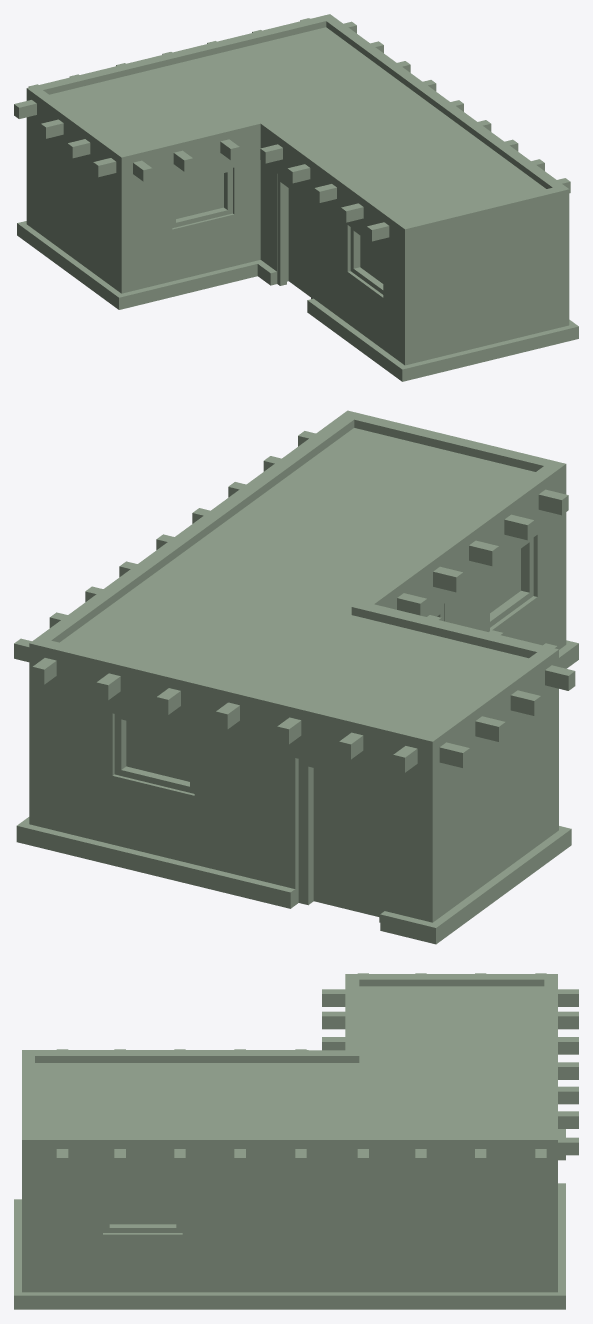
The model's file is mud_hut_02.fbx.
3 views of the same model, one above another, from view 1: azimuth 30°, elevation 25°; view 2: azimuth 150°, elevation 25°; view 3: azimuth 270°, elevation 25° (orthographic). The views are drawn at different scales.
Parts seen in each view (by area): view 1: mud_hut_02; view 2: mud_hut_02; view 3: mud_hut_02.
Boxes of the visible parts, x1,y1,x2,y2 form: mud_hut_02: (14,14,578,381); mud_hut_02: (14,410,578,944); mud_hut_02: (14,973,578,1309).
Size of the model in its own units: 10.92 by 4.59 by 14.12.
